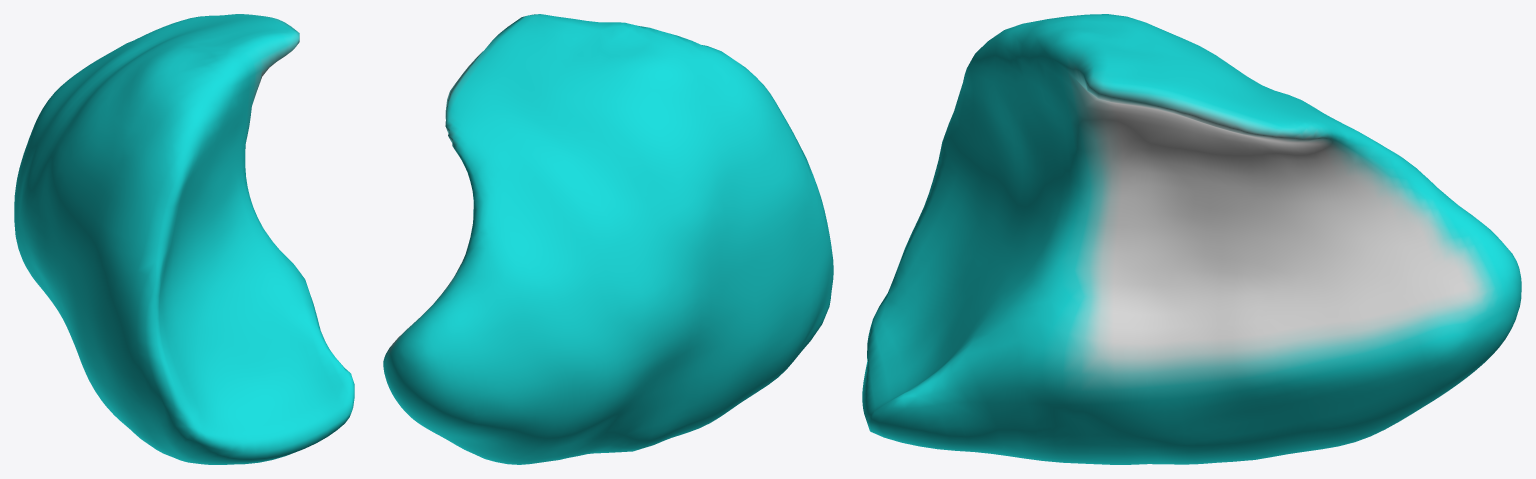
The model's file is Lung_Right.FBX.
The picture shows the model from 3 angles, left to right: view 1: azimuth 30°, elevation 25°; view 2: azimuth 150°, elevation 25°; view 3: azimuth 270°, elevation 25°; orthographic projection. The views are drawn at different scales.
Parts seen in each view (by area): view 1: Lung_Right-Snapshot; view 2: Lung_Right-Snapshot; view 3: Lung_Right-Snapshot.
Part boxes in pixels (box(x1,y1,x2,y2)): Lung_Right-Snapshot: box(14, 14, 354, 464); Lung_Right-Snapshot: box(383, 14, 833, 464); Lung_Right-Snapshot: box(862, 14, 1521, 464).
Bounding box in the file's own units: 141 × 276 × 204.
